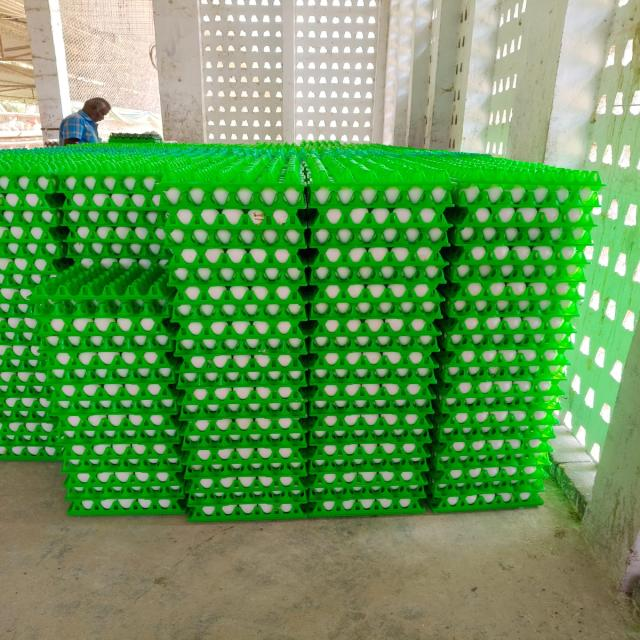egg_tray: (172, 214, 306, 520), (171, 218, 306, 520), (38, 266, 181, 476), (310, 208, 448, 416), (429, 316, 572, 510), (429, 316, 571, 510), (428, 345, 565, 511), (439, 278, 580, 408), (179, 348, 306, 482), (439, 280, 580, 395), (179, 350, 306, 475), (179, 354, 306, 478), (167, 210, 306, 323), (309, 184, 450, 293), (310, 209, 447, 321), (60, 145, 303, 208), (171, 247, 306, 359), (309, 352, 433, 473), (447, 208, 592, 311), (34, 264, 174, 370), (174, 293, 306, 405), (58, 402, 183, 514), (177, 321, 306, 429), (310, 317, 437, 424), (427, 407, 556, 511), (183, 411, 306, 520), (40, 302, 176, 400), (183, 415, 306, 520), (447, 208, 593, 296), (308, 412, 430, 516), (308, 412, 429, 516), (309, 318, 436, 417), (59, 414, 184, 514), (309, 414, 430, 516), (393, 148, 602, 206), (0, 258, 59, 459), (51, 384, 181, 473), (310, 318, 436, 408), (41, 301, 175, 385), (38, 300, 174, 382), (309, 328, 436, 415), (439, 276, 582, 351), (431, 402, 557, 486), (310, 238, 442, 318), (431, 405, 557, 483), (0, 210, 64, 359), (161, 146, 306, 210), (61, 176, 170, 261), (303, 142, 452, 204), (162, 146, 305, 210), (0, 299, 57, 459), (161, 144, 303, 208), (437, 316, 573, 382), (437, 316, 574, 381), (426, 442, 549, 512), (308, 349, 435, 416), (181, 410, 306, 478), (52, 392, 180, 457), (435, 345, 568, 407), (447, 154, 602, 207), (436, 349, 566, 412), (165, 208, 306, 264), (307, 155, 452, 209), (447, 245, 586, 299), (309, 411, 429, 473), (0, 331, 58, 459), (447, 198, 597, 245), (173, 269, 306, 322), (175, 316, 306, 369), (307, 160, 451, 208), (452, 164, 602, 210), (440, 316, 573, 367), (36, 262, 173, 310), (431, 405, 555, 458), (161, 166, 306, 211), (309, 316, 439, 366), (308, 461, 426, 516), (48, 145, 174, 196), (46, 343, 177, 392), (0, 261, 51, 385), (170, 246, 306, 292), (309, 207, 450, 251), (58, 148, 162, 207), (186, 470, 306, 521), (0, 198, 66, 289), (0, 198, 66, 285), (307, 468, 426, 516), (433, 407, 556, 453), (450, 207, 595, 246), (446, 245, 588, 284), (172, 284, 306, 325), (63, 469, 184, 514), (310, 246, 446, 286), (310, 281, 443, 321), (177, 350, 307, 390), (58, 412, 181, 454), (309, 345, 435, 386), (442, 280, 581, 316), (442, 282, 581, 318), (181, 380, 307, 419), (0, 209, 63, 285), (309, 378, 435, 416), (57, 165, 163, 210), (0, 384, 60, 460), (224, 152, 305, 208), (175, 209, 297, 246), (435, 377, 562, 412), (187, 485, 307, 522), (447, 204, 595, 233), (181, 415, 307, 449), (66, 222, 170, 263), (0, 288, 44, 384), (0, 150, 57, 224), (0, 278, 39, 383), (438, 314, 573, 344), (309, 412, 431, 445), (427, 479, 544, 513), (67, 227, 170, 265), (307, 484, 425, 517), (309, 182, 447, 209), (0, 303, 45, 385), (0, 305, 45, 385), (188, 491, 300, 519), (0, 225, 65, 273), (0, 258, 67, 301), (0, 210, 64, 254), (0, 153, 57, 202), (188, 494, 298, 519), (67, 492, 185, 515), (0, 422, 61, 461), (0, 257, 65, 290), (64, 208, 166, 229), (70, 496, 182, 514), (62, 192, 160, 211), (65, 255, 167, 270), (0, 186, 58, 212), (189, 438, 230, 464), (107, 132, 163, 145), (221, 476, 279, 486), (237, 212, 265, 228), (254, 452, 275, 472), (327, 209, 359, 221), (481, 318, 514, 329), (0, 318, 35, 328), (241, 212, 263, 227), (127, 212, 163, 221), (105, 457, 136, 467), (257, 437, 273, 448), (81, 460, 100, 469), (44, 264, 61, 273), (470, 282, 482, 294), (65, 211, 77, 222), (102, 312, 122, 318), (310, 225, 315, 247), (367, 355, 379, 364), (350, 334, 365, 341), (362, 210, 373, 219), (326, 356, 338, 364), (183, 252, 193, 261), (94, 449, 109, 455), (385, 446, 395, 454), (312, 331, 318, 344), (457, 387, 470, 393), (201, 146, 210, 154), (361, 471, 375, 476), (87, 211, 98, 217), (297, 338, 303, 349), (486, 441, 499, 446), (372, 319, 385, 324), (398, 502, 407, 509), (412, 489, 419, 498), (204, 327, 211, 336), (292, 480, 301, 487), (412, 359, 421, 366), (519, 318, 529, 324), (531, 318, 541, 324), (505, 450, 517, 455), (201, 147, 211, 153), (266, 219, 274, 226), (443, 387, 451, 394), (226, 339, 237, 344), (381, 502, 390, 508), (159, 331, 166, 338), (12, 291, 19, 298), (0, 376, 8, 382), (315, 505, 323, 511), (272, 494, 280, 500), (380, 210, 391, 214), (364, 442, 371, 448), (491, 290, 501, 294), (474, 441, 482, 446), (231, 213, 236, 221), (327, 320, 337, 324), (345, 472, 355, 476), (108, 386, 118, 390), (412, 319, 424, 322), (389, 359, 395, 365), (361, 494, 368, 499), (89, 314, 100, 317), (265, 432, 273, 436), (321, 492, 331, 495), (106, 212, 116, 215), (0, 273, 4, 280), (283, 482, 290, 486), (357, 321, 366, 324), (510, 371, 515, 376), (141, 168, 147, 172), (454, 326, 460, 330), (469, 460, 477, 463), (401, 496, 407, 500), (174, 299, 178, 305), (217, 197, 221, 203), (551, 354, 555, 360), (417, 165, 425, 168), (121, 152, 125, 158), (349, 320, 357, 323), (398, 360, 402, 366), (527, 350, 534, 353), (171, 288, 174, 295), (576, 235, 581, 239), (472, 326, 477, 330), (162, 281, 166, 286), (274, 441, 278, 446), (22, 156, 27, 160), (443, 232, 445, 242), (113, 215, 119, 218), (287, 323, 290, 329), (510, 364, 516, 367), (174, 300, 177, 306), (545, 168, 553, 170), (353, 509, 357, 513), (185, 436, 187, 444), (161, 275, 165, 279), (75, 450, 83, 452), (442, 363, 447, 366), (196, 360, 201, 363), (34, 276, 39, 279), (412, 503, 417, 506), (70, 465, 73, 470), (140, 463, 145, 466), (514, 440, 521, 442), (67, 451, 74, 453), (473, 339, 477, 342), (535, 338, 538, 342), (539, 176, 543, 179), (487, 333, 491, 336), (385, 496, 391, 498), (220, 229, 226, 231), (222, 216, 226, 219), (144, 296, 150, 298), (216, 467, 219, 471), (523, 372, 526, 376), (404, 166, 408, 169), (365, 150, 368, 154), (26, 267, 29, 271), (204, 265, 208, 268), (150, 462, 153, 466), (367, 443, 372, 445), (125, 310, 130, 312), (106, 498, 111, 500), (170, 343, 172, 348), (158, 472, 163, 474), (450, 167, 453, 170), (220, 219, 223, 222), (298, 498, 301, 501), (219, 361, 222, 364), (19, 304, 22, 307), (215, 216, 218, 219), (390, 319, 393, 322), (78, 461, 81, 464), (99, 353, 102, 356), (457, 338, 459, 342), (137, 450, 141, 452), (506, 328, 508, 332), (137, 202, 139, 206), (102, 450, 106, 452), (142, 299, 144, 303), (2, 314, 6, 316), (300, 424, 302, 428), (391, 356, 395, 358), (4, 211, 7, 213), (210, 408, 213, 410), (452, 170, 454, 173), (40, 380, 42, 383), (451, 320, 453, 323), (94, 201, 97, 203), (335, 512, 338, 514), (186, 297, 188, 300), (198, 440, 201, 442), (226, 274, 229, 276), (18, 330, 21, 332), (163, 345, 165, 348), (287, 476, 289, 479), (297, 481, 299, 484), (2, 290, 5, 292), (393, 229, 396, 231), (172, 213, 173, 219), (54, 376, 59, 377), (212, 262, 214, 264), (485, 166, 487, 168), (390, 478, 392, 480), (41, 280, 43, 282), (458, 460, 460, 462), (324, 222, 325, 226), (561, 283, 565, 284), (0, 329, 2, 331), (266, 214, 268, 216), (28, 290, 30, 292), (336, 340, 338, 342), (281, 340, 283, 342), (29, 182, 31, 184), (406, 365, 410, 366), (541, 308, 543, 310), (5, 265, 8, 266), (283, 269, 284, 272), (278, 480, 279, 483), (463, 223, 466, 224), (56, 364, 59, 365), (514, 338, 516, 339), (556, 407, 558, 408), (121, 305, 122, 307), (78, 199, 79, 201), (379, 494, 380, 496), (394, 489, 395, 491), (27, 249, 29, 250), (183, 309, 185, 310), (185, 295, 186, 297), (459, 443, 461, 444), (164, 296, 166, 297), (532, 371, 534, 372), (267, 224, 268, 226), (77, 154, 79, 155), (338, 341, 339, 343), (330, 327, 332, 328), (166, 313, 167, 315), (79, 371, 81, 372), (131, 380, 132, 381), (547, 176, 548, 177), (325, 479, 326, 480), (320, 465, 321, 466), (536, 485, 537, 486), (533, 483, 534, 484), (394, 502, 395, 503), (500, 449, 501, 450), (467, 445, 468, 446), (321, 225, 322, 226), (258, 327, 259, 328), (189, 212, 190, 213), (185, 296, 186, 297), (31, 363, 32, 364), (20, 265, 21, 266), (49, 167, 50, 168), (380, 336, 381, 337), (229, 323, 230, 324), (107, 456, 108, 457), (169, 387, 170, 388), (183, 416, 183, 417), (410, 444, 410, 446), (481, 340, 481, 341), (225, 410, 226, 410), (354, 512, 355, 512), (157, 452, 161, 452), (327, 480, 327, 481), (405, 452, 411, 452), (354, 449, 354, 451), (305, 471, 305, 474), (467, 330, 468, 330), (538, 470, 538, 470), (75, 203, 77, 203), (374, 488, 374, 488), (21, 206, 21, 207), (105, 265, 106, 265), (5, 212, 6, 212), (261, 466, 261, 468), (285, 452, 286, 452), (193, 434, 194, 434), (208, 334, 210, 334), (215, 323, 221, 323), (214, 192, 214, 194), (109, 270, 110, 270), (471, 372, 479, 372), (69, 392, 70, 392), (383, 348, 383, 348), (330, 321, 330, 321), (214, 220, 214, 221), (203, 292, 204, 292), (190, 291, 190, 292), (174, 279, 174, 281), (241, 223, 241, 223), (28, 363, 28, 364), (401, 348, 401, 348), (358, 321, 359, 321), (236, 490, 237, 490), (259, 154, 259, 154), (239, 423, 242, 423), (438, 265, 438, 266), (492, 221, 492, 222), (34, 298, 35, 298), (487, 450, 487, 450), (174, 465, 174, 466), (72, 456, 73, 456), (165, 385, 165, 386), (104, 354, 109, 354)
